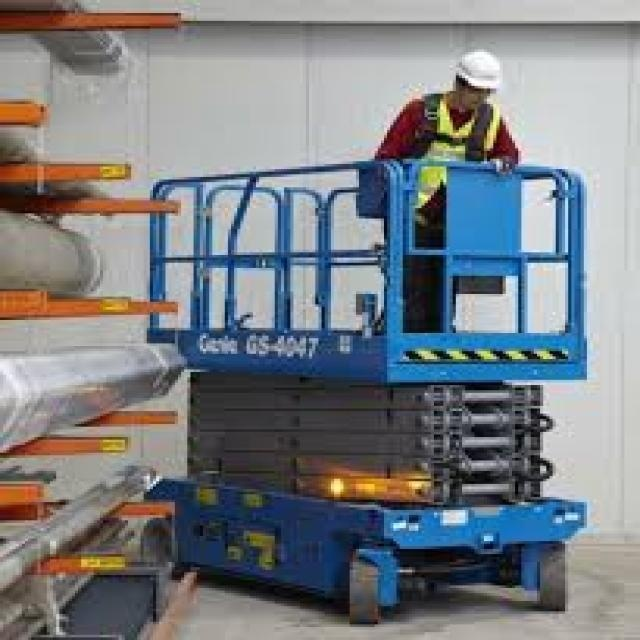Arnes_seguridad: (415, 92, 498, 217)
